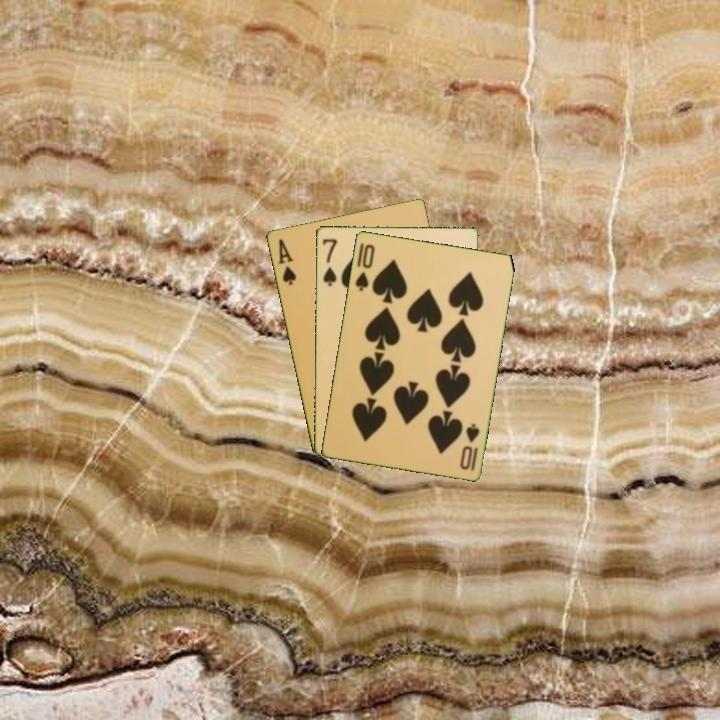10s: (456, 419, 482, 474), (351, 240, 377, 293)
7s: (319, 235, 339, 288)
As: (274, 235, 299, 288)
